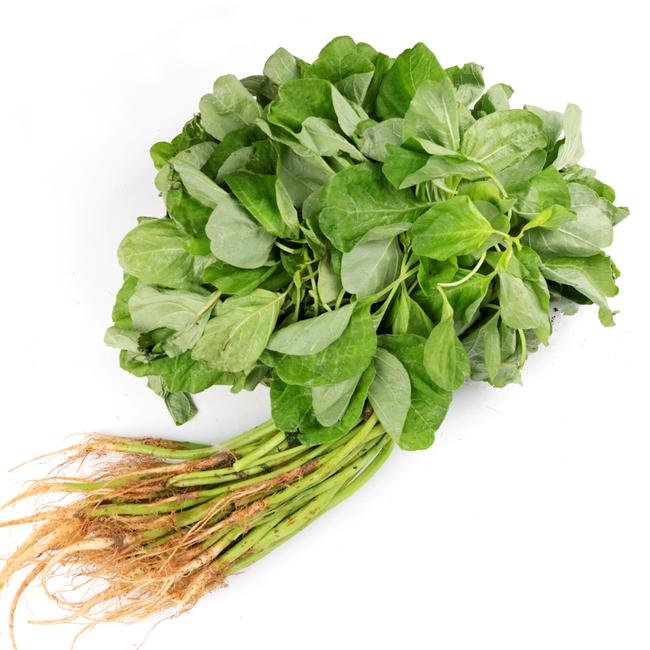Bayam: (8, 10, 650, 650)
